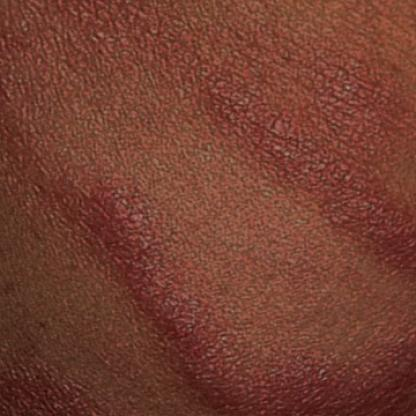Leprosy: (191, 65, 415, 270), (103, 274, 415, 415), (0, 96, 192, 276)
